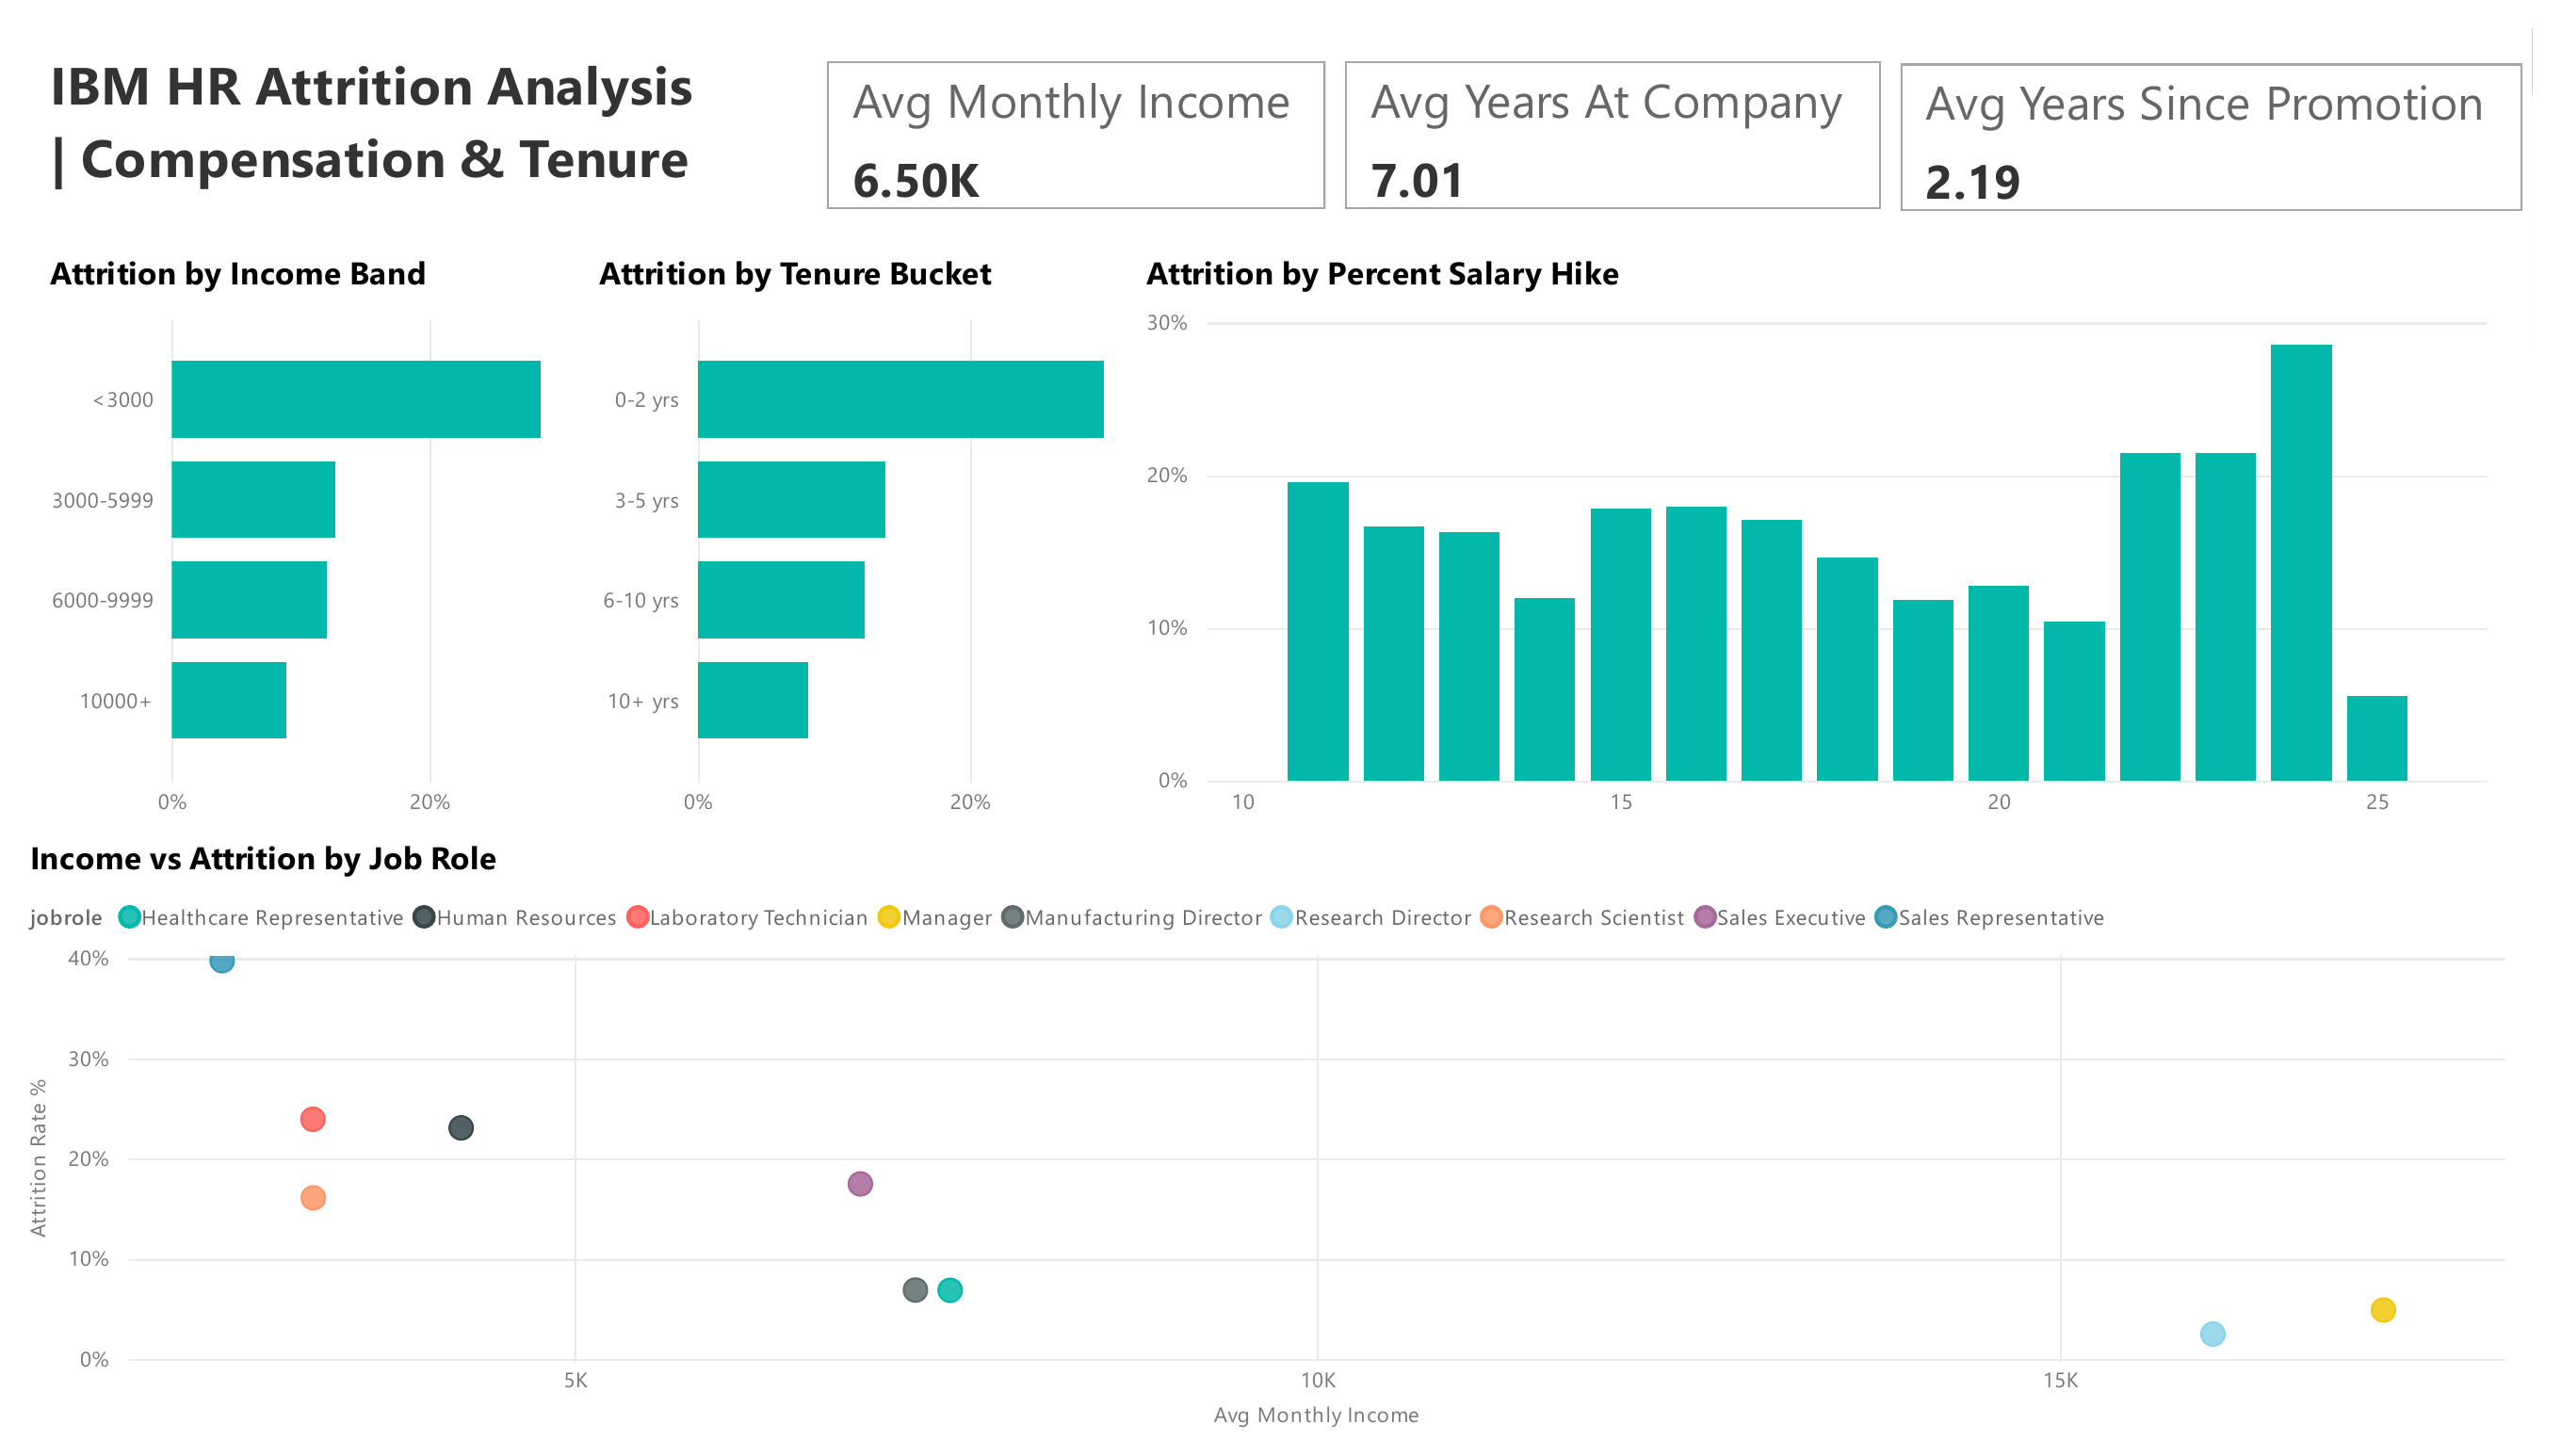

The page's visual inventory and layout, read from the dashboard file:
{"tool":"powerbi","page":{"name":"IBM HR Attrition Analysis | Compensation & Tenure","canvas":[1280,720],"ordinal":2},"visuals":[{"type":"clusteredBarChart","title":"Attrition by Income Band","fields":{"Category":["public compensation.IncomeBand"],"Y":["public attrition.Attrition Rate %"]},"box":[10.4,114.5,279.4,297.3],"z":0},{"type":"clusteredBarChart","title":"Attrition by Tenure Bucket","fields":{"Category":["public employment.TenureBucket"],"Y":["public attrition.Attrition Rate %"]},"box":[289.8,114.5,279.4,297.3],"z":1000},{"type":"scatterChart","title":"Income vs Attrition by Job Role","fields":{"X":["public compensation.Avg Monthly Income"],"Y":["public attrition.Attrition Rate %"],"Series":["public demographics.jobrole"]},"box":[0,411.7,1279.8,307.7],"z":2000},{"type":"clusteredColumnChart","title":"Attrition by Percent Salary Hike","fields":{"Category":["public compensation.percentsalaryhike (bins)"],"Y":["public attrition.Attrition Rate %"]},"box":[569.3,114.5,692.7,297.3],"z":3000},{"type":"cardVisual","fields":{"Data":["public compensation.Avg Monthly Income"]},"box":[406,11.9,264.2,85.1],"z":4000},{"type":"cardVisual","fields":{"Data":["public employment.Avg Years At Company"]},"box":[670.4,11.9,282.4,84.7],"z":5000},{"type":"cardVisual","fields":{"Data":["public employment.Avg Years Since Promotion"]},"box":[952.8,13.4,327,84.7],"z":6000},{"type":"textbox","box":[10.4,4.5,346.3,99.6],"z":7000}]}

Visuals, with their boxes in screenshot pixels (x1, y1, x2, y2), scaled from the page's 1280x720 canvas onto the 2561x1456 screenshot:
"Attrition by Income Band" clusteredBarChart: left=21, top=232, right=580, bottom=833
"Attrition by Tenure Bucket" clusteredBarChart: left=580, top=232, right=1139, bottom=833
"Income vs Attrition by Job Role" scatterChart: left=0, top=833, right=2560, bottom=1455
"Attrition by Percent Salary Hike" clusteredColumnChart: left=1139, top=232, right=2525, bottom=833
cardVisual - public compensation.Avg Monthly Income: left=812, top=24, right=1341, bottom=196
cardVisual - public employment.Avg Years At Company: left=1341, top=24, right=1906, bottom=195
cardVisual - public employment.Avg Years Since Promotion: left=1906, top=27, right=2560, bottom=199
textbox: left=21, top=9, right=714, bottom=211
